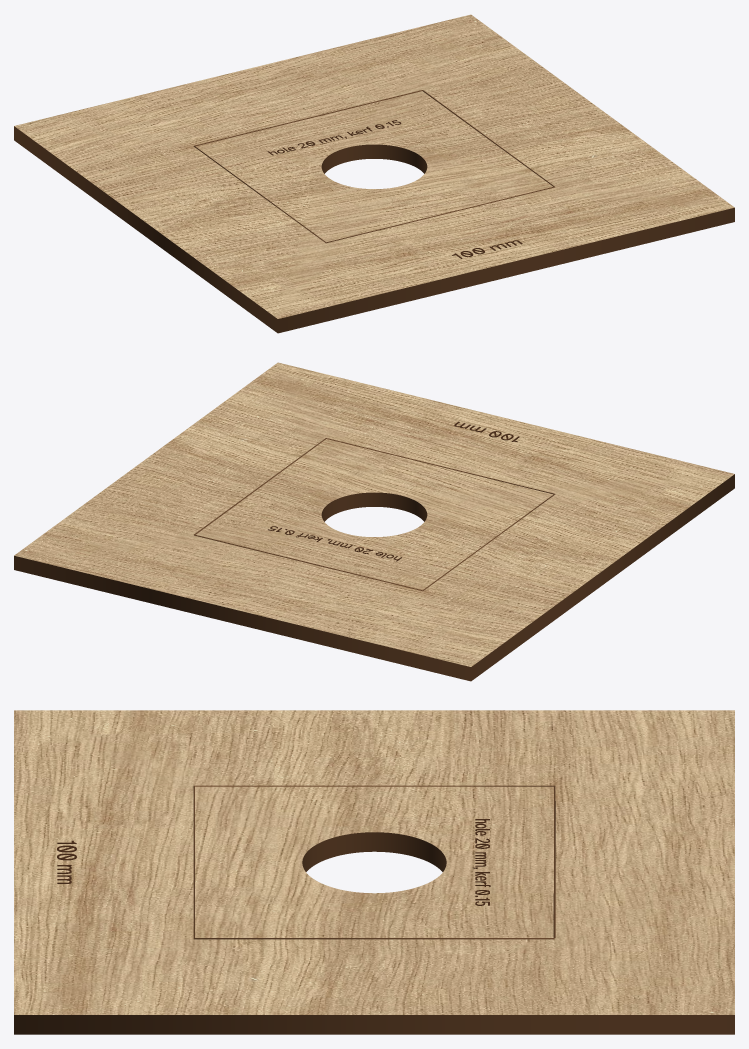
File: calibration-square.glb
The picture shows the model from 3 angles, top to bottom: view 1: azimuth 30°, elevation 25°; view 2: azimuth 150°, elevation 25°; view 3: azimuth 270°, elevation 25°; orthographic projection. The views are drawn at different scales.
Visible parts, largest first — view 1: body0, score0, engrave0; view 2: body0, score0, engrave0; view 3: body0, score0, engrave0.
Boxes of the visible parts, left/top/right/bottom form: body0: left=14, top=14, right=734, bottom=333; score0: left=193, top=90, right=554, bottom=243; engrave0: left=267, top=120, right=522, bottom=258; body0: left=14, top=362, right=734, bottom=681; score0: left=194, top=438, right=555, bottom=591; engrave0: left=268, top=421, right=519, bottom=561; body0: left=14, top=710, right=734, bottom=1034; score0: left=193, top=785, right=555, bottom=939; engrave0: left=57, top=819, right=490, bottom=905.
Size of the model in its own units: 0.1 by 0.00312 by 0.1.
Materials: 4 (1 with a texture image).
